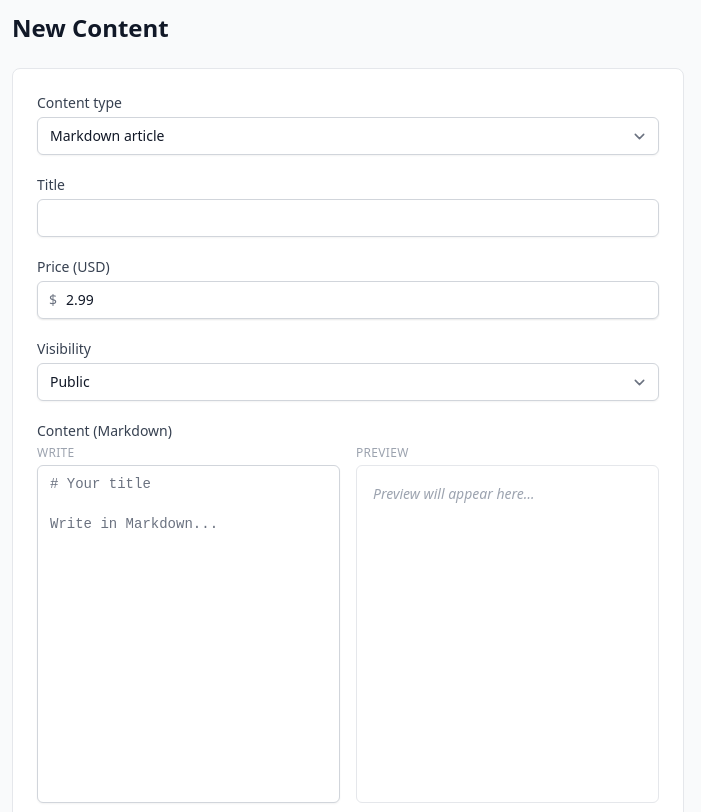
NewContentPage rendering › switches to external_ref fields when content type is changed
Select "External reference (video, PDF, link…)" in the dropdown labelled "Content type": {"x": 348, "y": 136} x1=37 y1=117 x2=659 y2=155
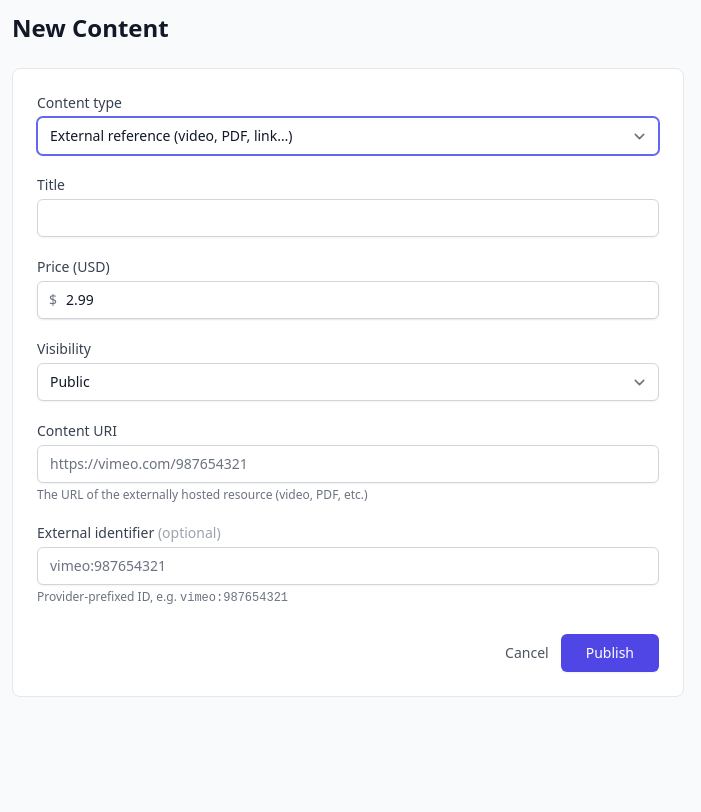
Check: the field labelled "Content URI" is shown, box x1=37 y1=445 x2=659 y2=483
Check: the field labelled "External identifier (optional)" is shown, box x1=37 y1=547 x2=659 y2=585
Check: the label labelled "Content (Markdown)" is gone
